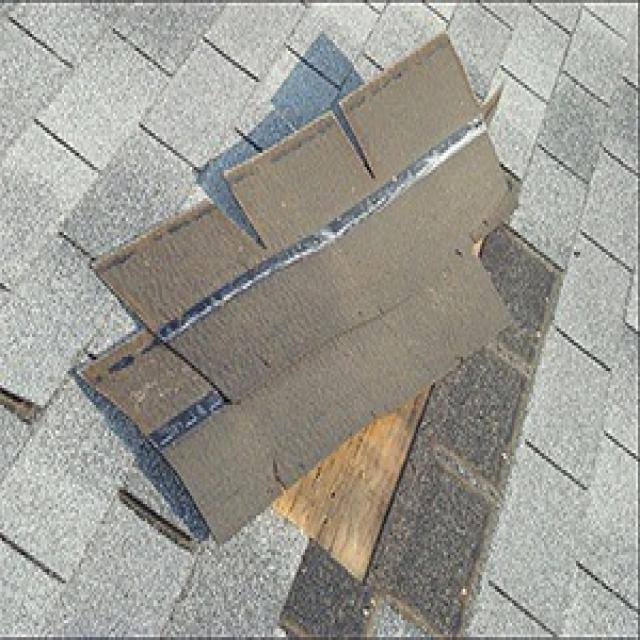damage: (66, 32, 572, 639)
